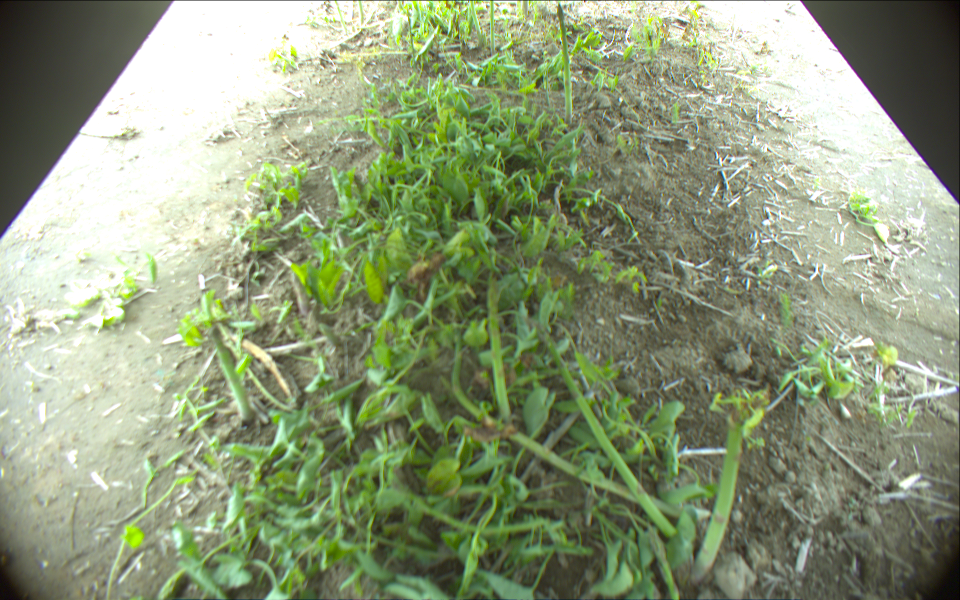aspa: (450, 334, 701, 522), (533, 318, 678, 537), (689, 414, 746, 584), (204, 323, 257, 422), (486, 272, 515, 424), (552, 3, 573, 122), (471, 1, 482, 35), (489, 1, 496, 53), (333, 1, 347, 26), (357, 1, 366, 22), (521, 1, 530, 17)
